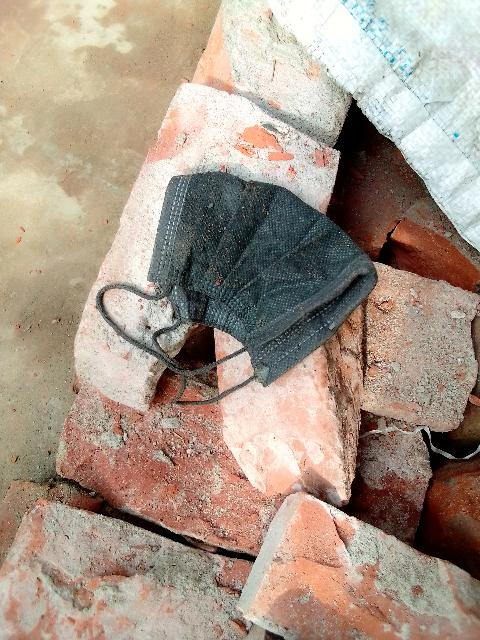mask: (148, 193, 350, 373)
